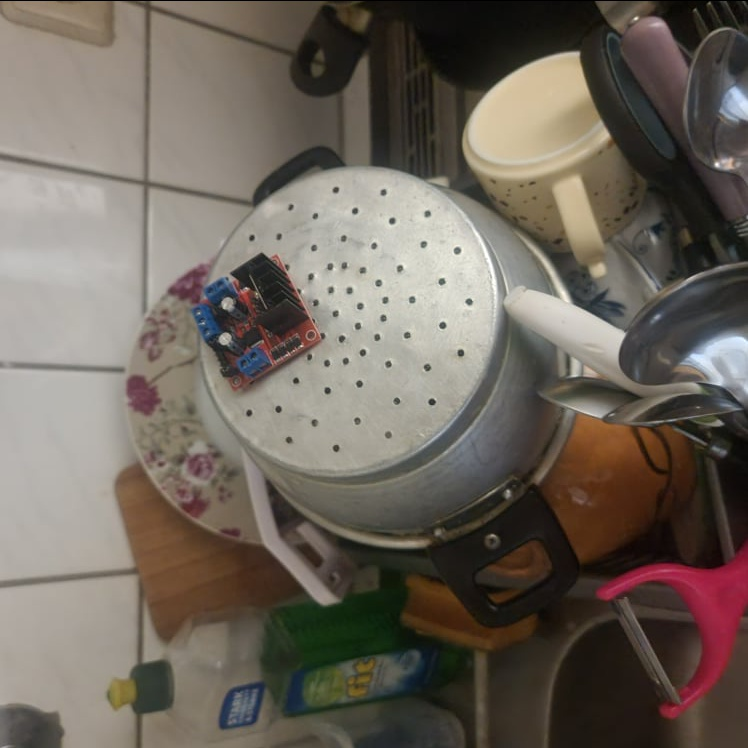MOTOR: (191, 248, 326, 391)
